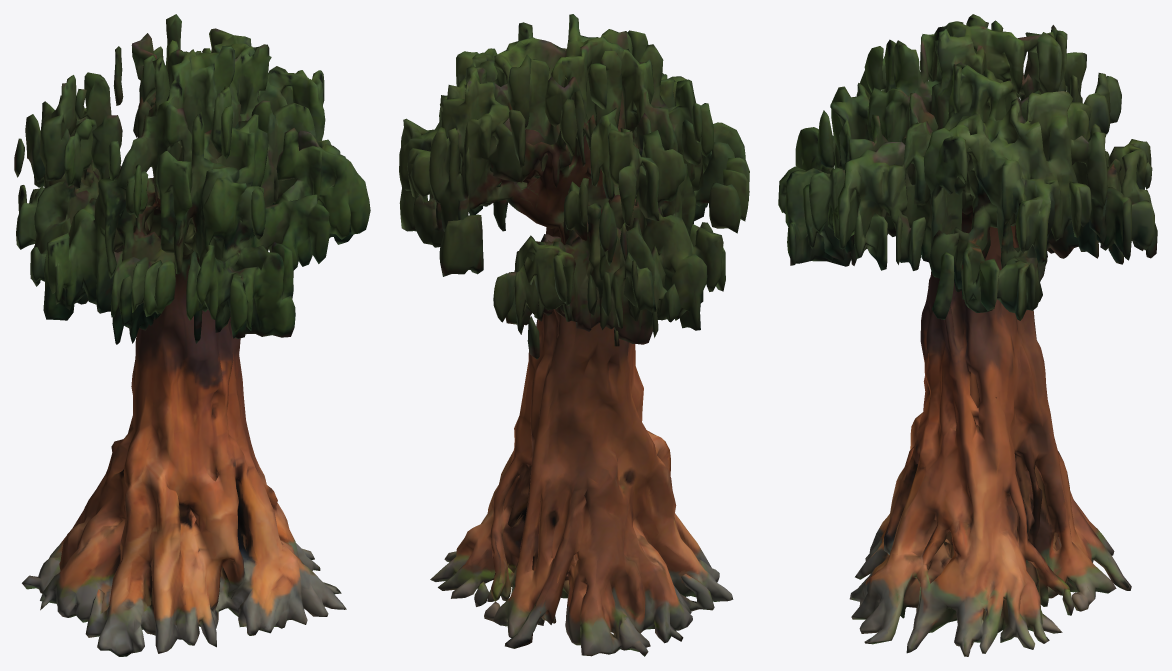
File: AI_HollowRedwoodTree.fbx
The picture shows the model from 3 angles, left to right: view 1: azimuth 30°, elevation 25°; view 2: azimuth 150°, elevation 25°; view 3: azimuth 270°, elevation 25°; orthographic projection. The views are drawn at different scales.
Visible parts, largest first — view 1: Mesh_0; view 2: Mesh_0; view 3: Mesh_0.
Part boxes in pixels (x1,y1,x2,y2): Mesh_0: (14,14,370,656); Mesh_0: (399,14,749,656); Mesh_0: (778,14,1157,656).
Size of the model in its own units: 115 by 201 by 118.
1 material, 1 textured.
